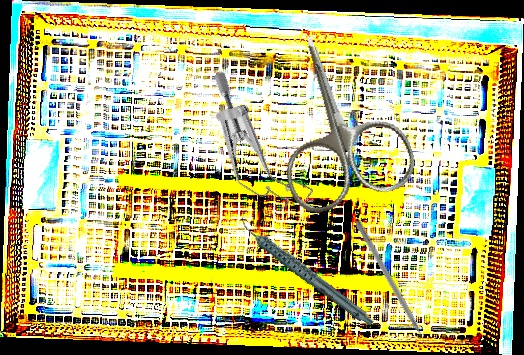Handpiece: (237, 194, 375, 349)
Iris Scissors: (248, 16, 422, 219)
Pusher: (353, 219, 433, 355)
Speculum: (170, 67, 348, 228)
